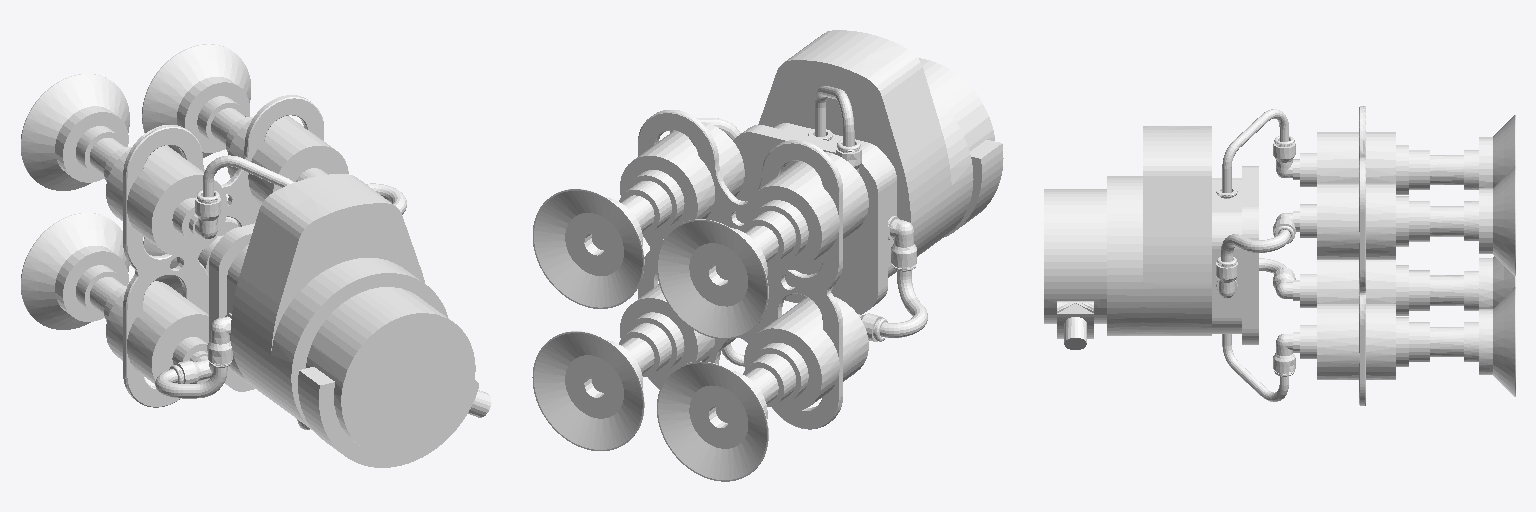
robot.urdf — ur10e:
<?xml version="1.0" ?>
<!-- =================================================================================== -->
<!-- |    This document was autogenerated by xacro from ur10e_robot.urdf.xacro         | -->
<!-- |    EDITING THIS FILE BY HAND IS NOT RECOMMENDED                                 | -->
<!-- =================================================================================== -->
<robot name="ur10e" xmlns:xacro="http://ros.org/wiki/xacro">
  <gazebo>
    <plugin filename="libgazebo_ros_control.so" name="ros_control">
      <!--robotNamespace>/</robotNamespace-->
      <!--robotSimType>gazebo_ros_control/DefaultRobotHWSim</robotSimType-->
    </plugin>
    <!--
    <plugin name="gazebo_ros_power_monitor_controller" filename="libgazebo_ros_power_monitor.so">
      <alwaysOn>true</alwaysOn>
      <updateRate>1.0</updateRate>
      <timeout>5</timeout>
      <powerStateTopic>power_state</powerStateTopic>
      <powerStateRate>10.0</powerStateRate>
      <fullChargeCapacity>87.78</fullChargeCapacity>     
      <dischargeRate>-474</dischargeRate>
      <chargeRate>525</chargeRate>
      <dischargeVoltage>15.52</dischargeVoltage>
      <chargeVoltage>16.41</chargeVoltage>
    </plugin>
-->
  </gazebo>
  <!--
  Author: [author]
  Contributers: [author], [author], [author]
-->
  <link name="base_link">
    <visual>
      <geometry>
        <mesh filename="visual/base.dae"/>
      </geometry>
      <material name="LightGrey">
        <color rgba="0.7 0.7 0.7 1.0"/>
      </material>
    </visual>
    <collision>
      <geometry>
        <mesh filename="collision/base.stl"/>
      </geometry>
    </collision>
    <inertial>
      <mass value="4.0"/>
      <origin rpy="0 0 0" xyz="0.0 0.0 0.0"/>
      <inertia ixx="0.0061063308908" ixy="0.0" ixz="0.0" iyy="0.0061063308908" iyz="0.0" izz="0.01125"/>
    </inertial>
  </link>
  <joint name="shoulder_pan_joint" type="revolute">
    <parent link="base_link"/>
    <child link="shoulder_link"/>
    <origin rpy="0.0 0.0 0.0" xyz="0.0 0.0 0.181"/>
    <axis xyz="0 0 1"/>
    <limit effort="330.0" lower="-6.28318530718" upper="6.28318530718" velocity="3.14"/>
    <dynamics damping="0.0" friction="0.0"/>
  </joint>
  <link name="shoulder_link">
    <visual>
      <geometry>
        <mesh filename="visual/shoulder.dae"/>
      </geometry>
      <material name="LightGrey">
        <color rgba="0.7 0.7 0.7 1.0"/>
      </material>
    </visual>
    <collision>
      <geometry>
        <mesh filename="collision/shoulder.stl"/>
      </geometry>
    </collision>
    <inertial>
      <mass value="7.778"/>
      <origin rpy="0 0 0" xyz="0.0 0.0 0.0"/>
      <inertia ixx="0.0314743125769" ixy="0.0" ixz="0.0" iyy="0.0314743125769" iyz="0.0" izz="0.021875625"/>
    </inertial>
  </link>
  <joint name="shoulder_lift_joint" type="revolute">
    <parent link="shoulder_link"/>
    <child link="upper_arm_link"/>
    <origin rpy="0.0 1.57079632679 0.0" xyz="0.0 0.176 0.0"/>
    <axis xyz="0 1 0"/>
    <limit effort="330.0" lower="-6.28318530718" upper="6.28318530718" velocity="3.14"/>
    <dynamics damping="0.0" friction="0.0"/>
  </joint>
  <link name="upper_arm_link">
    <visual>
      <geometry>
        <mesh filename="visual/upperarm.dae"/>
      </geometry>
      <material name="LightGrey">
        <color rgba="0.7 0.7 0.7 1.0"/>
      </material>
    </visual>
    <collision>
      <geometry>
        <mesh filename="collision/upperarm.stl"/>
      </geometry>
    </collision>
    <inertial>
      <mass value="12.93"/>
      <origin rpy="0 0 0" xyz="0.0 0.0 0.3065"/>
      <inertia ixx="0.42307374077" ixy="0.0" ixz="0.0" iyy="0.42307374077" iyz="0.0" izz="0.036365625"/>
    </inertial>
  </link>
  <joint name="elbow_joint" type="revolute">
    <parent link="upper_arm_link"/>
    <child link="forearm_link"/>
    <origin rpy="0.0 0.0 0.0" xyz="0.0 -0.137 0.613"/>
    <axis xyz="0 1 0"/>
    <limit effort="150.0" lower="-3.14159265359" upper="3.14159265359" velocity="3.14"/>
    <dynamics damping="0.0" friction="0.0"/>
  </joint>
  <link name="forearm_link">
    <visual>
      <geometry>
        <mesh filename="visual/forearm.dae"/>
      </geometry>
      <material name="LightGrey">
        <color rgba="0.7 0.7 0.7 1.0"/>
      </material>
    </visual>
    <collision>
      <geometry>
        <mesh filename="collision/forearm.stl"/>
      </geometry>
    </collision>
    <inertial>
      <mass value="3.87"/>
      <origin rpy="0 0 0" xyz="0.0 0.0 0.2855"/>
      <inertia ixx="0.110590365764" ixy="0.0" ixz="0.0" iyy="0.110590365764" iyz="0.0" izz="0.010884375"/>
    </inertial>
  </link>
  <joint name="wrist_1_joint" type="revolute">
    <parent link="forearm_link"/>
    <child link="wrist_1_link"/>
    <origin rpy="0.0 1.57079632679 0.0" xyz="0.0 0.0 0.571"/>
    <axis xyz="0 1 0"/>
    <limit effort="54.0" lower="-6.28318530718" upper="6.28318530718" velocity="6.28"/>
    <dynamics damping="0.0" friction="0.0"/>
  </joint>
  <link name="wrist_1_link">
    <visual>
      <geometry>
        <mesh filename="visual/wrist1.dae"/>
      </geometry>
      <material name="LightGrey">
        <color rgba="0.7 0.7 0.7 1.0"/>
      </material>
    </visual>
    <collision>
      <geometry>
        <mesh filename="collision/wrist1.stl"/>
      </geometry>
    </collision>
    <inertial>
      <mass value="1.96"/>
      <origin rpy="0 0 0" xyz="0.0 0.135 0.0"/>
      <inertia ixx="0.0051082479567" ixy="0.0" ixz="0.0" iyy="0.0051082479567" iyz="0.0" izz="0.0055125"/>
    </inertial>
  </link>
  <joint name="wrist_2_joint" type="revolute">
    <parent link="wrist_1_link"/>
    <child link="wrist_2_link"/>
    <origin rpy="0.0 0.0 0.0" xyz="0.0 0.135 0.0"/>
    <axis xyz="0 0 1"/>
    <limit effort="54.0" lower="-6.28318530718" upper="6.28318530718" velocity="6.28"/>
    <dynamics damping="0.0" friction="0.0"/>
  </joint>
  <link name="wrist_2_link">
    <visual>
      <geometry>
        <mesh filename="visual/wrist2.dae"/>
      </geometry>
      <material name="LightGrey">
        <color rgba="0.7 0.7 0.7 1.0"/>
      </material>
    </visual>
    <collision>
      <geometry>
        <mesh filename="collision/wrist2.stl"/>
      </geometry>
    </collision>
    <inertial>
      <mass value="1.96"/>
      <origin rpy="0 0 0" xyz="0.0 0.0 0.12"/>
      <inertia ixx="0.0051082479567" ixy="0.0" ixz="0.0" iyy="0.0051082479567" iyz="0.0" izz="0.0055125"/>
    </inertial>
  </link>
  <joint name="wrist_3_joint" type="revolute">
    <parent link="wrist_2_link"/>
    <child link="wrist_3_link"/>
    <origin rpy="0.0 0.0 0.0" xyz="0.0 0.0 0.12"/>
    <axis xyz="0 1 0"/>
    <limit effort="54.0" lower="-6.28318530718" upper="6.28318530718" velocity="6.28"/>
    <dynamics damping="0.0" friction="0.0"/>
  </joint>
  <link name="wrist_3_link">
    <visual>
      <geometry>
        <mesh filename="visual/wrist3.dae"/>
      </geometry>
      <material name="LightGrey">
        <color rgba="0.7 0.7 0.7 1.0"/>
      </material>
    </visual>
    <collision>
      <geometry>
        <mesh filename="collision/wrist3.stl"/>
      </geometry>
    </collision>
    <inertial>
      <mass value="0.202"/>
      <origin rpy="1.57079632679 0 0" xyz="0.0 0.092 0.0"/>
      <inertia ixx="0.000144345775595" ixy="0.0" ixz="0.0" iyy="0.000144345775595" iyz="0.0" izz="0.000204525"/>
    </inertial>
  </link>
  <joint name="ee_fixed_joint" type="fixed">
    <parent link="wrist_3_link"/>
    <child link="ee_link"/>
    <origin rpy="0.0 0.0 1.57079632679" xyz="0.0 0.117 0.0"/>
  </joint>
  <link name="ee_link">
    <collision>
      <geometry>
        <box size="0.01 0.01 0.01"/>
      </geometry>
      <origin rpy="0 0 0" xyz="-0.01 0 0"/>
    </collision>
  </link>
  <transmission name="shoulder_pan_trans">
    <type>transmission_interface/SimpleTransmission</type>
    <joint name="shoulder_pan_joint">
      <hardwareInterface>hardware_interface/PositionJointInterface</hardwareInterface>
    </joint>
    <actuator name="shoulder_pan_motor">
      <mechanicalReduction>1</mechanicalReduction>
    </actuator>
  </transmission>
  <transmission name="shoulder_lift_trans">
    <type>transmission_interface/SimpleTransmission</type>
    <joint name="shoulder_lift_joint">
      <hardwareInterface>hardware_interface/PositionJointInterface</hardwareInterface>
    </joint>
    <actuator name="shoulder_lift_motor">
      <mechanicalReduction>1</mechanicalReduction>
    </actuator>
  </transmission>
  <transmission name="elbow_trans">
    <type>transmission_interface/SimpleTransmission</type>
    <joint name="elbow_joint">
      <hardwareInterface>hardware_interface/PositionJointInterface</hardwareInterface>
    </joint>
    <actuator name="elbow_motor">
      <mechanicalReduction>1</mechanicalReduction>
    </actuator>
  </transmission>
  <transmission name="wrist_1_trans">
    <type>transmission_interface/SimpleTransmission</type>
    <joint name="wrist_1_joint">
      <hardwareInterface>hardware_interface/PositionJointInterface</hardwareInterface>
    </joint>
    <actuator name="wrist_1_motor">
      <mechanicalReduction>1</mechanicalReduction>
    </actuator>
  </transmission>
  <transmission name="wrist_2_trans">
    <type>transmission_interface/SimpleTransmission</type>
    <joint name="wrist_2_joint">
      <hardwareInterface>hardware_interface/PositionJointInterface</hardwareInterface>
    </joint>
    <actuator name="wrist_2_motor">
      <mechanicalReduction>1</mechanicalReduction>
    </actuator>
  </transmission>
  <transmission name="wrist_3_trans">
    <type>transmission_interface/SimpleTransmission</type>
    <joint name="wrist_3_joint">
      <hardwareInterface>hardware_interface/PositionJointInterface</hardwareInterface>
    </joint>
    <actuator name="wrist_3_motor">
      <mechanicalReduction>1</mechanicalReduction>
    </actuator>
  </transmission>
  <gazebo reference="shoulder_link">
    <selfCollide>true</selfCollide>
  </gazebo>
  <gazebo reference="upper_arm_link">
    <selfCollide>true</selfCollide>
  </gazebo>
  <gazebo reference="forearm_link">
    <selfCollide>true</selfCollide>
  </gazebo>
  <gazebo reference="wrist_1_link">
    <selfCollide>true</selfCollide>
  </gazebo>
  <gazebo reference="wrist_3_link">
    <selfCollide>true</selfCollide>
  </gazebo>
  <gazebo reference="wrist_2_link">
    <selfCollide>true</selfCollide>
  </gazebo>
  <gazebo reference="ee_link">
    <selfCollide>true</selfCollide>
  </gazebo>
  <!-- ROS base_link to UR 'Base' Coordinates transform -->
  <link name="base"/>
  <joint name="base_link-base_fixed_joint" type="fixed">
    <!-- NOTE: this rotation is only needed as long as base_link itself is
                 not corrected wrt the real robot (ie: rotated over 180
                 degrees)
      -->
    <origin rpy="0 0 -3.14159265359" xyz="0 0 0"/>
    <parent link="base_link"/>
    <child link="base"/>
  </joint>
  <!-- Frame coincident with all-zeros TCP on UR controller -->
  <link name="tool0"/>
  <joint name="wrist_3_link-tool0_fixed_joint" type="fixed">
    <origin rpy="-1.57079632679 0 0" xyz="0 0.117 0"/>
    <parent link="wrist_3_link"/>
    <child link="tool0"/>
  </joint>

  <joint name="vacuumgripper_joint" type="fixed">
    <parent link="tool0"/>
    <child link="vacuumgripper"/>
    <origin rpy="0 0 0" xyz="0 0 0"/>
  </joint>
  <link name="vacuumgripper">
    <visual>
      <geometry>
        <mesh filename="vacuumgripper.dae"/>
      </geometry>
    </visual>
    <collision>
      <geometry>
        <mesh filename="vacuumgripper.dae"/>
      </geometry>
    </collision>
  </link>
  <!-- TCP frame -->
  <joint name="tcp_joint" type="fixed">
    <origin rpy="0 0 0" xyz="0 0 0.22"/>
    <parent link="vacuumgripper"/>
    <child link="tcp"/>
  </joint>
  <link name="tcp"/>
  <!-- define the ur10e's position and orientation in the world coordinate system -->

  <link name="world"/>
  <joint name="world_joint" type="fixed">
    <parent link="world"/>
    <child link="base_link"/>
    <origin rpy="0.0 0.0 0.0" xyz="0.0 0.0 0.0"/>
  </joint>
</robot>

--- What the picture shows (computed from the rendered views, not written in the file) ---
Views: 3 orthographic renders of the robot side by side, from view 1: azimuth 30°, elevation 25°; view 2: azimuth 150°, elevation 25°; view 3: azimuth 270°, elevation 25°.
Model ur10e with 13 links and 12 joints (6 revolute, 6 fixed), rooted at world, posed all joints at 0.
Visible links, largest first — view 1: vacuumgripper; view 2: vacuumgripper; view 3: vacuumgripper.
Link boxes in pixels (x1,y1,x2,y2): vacuumgripper: (21, 44, 491, 467); vacuumgripper: (532, 30, 1003, 481); vacuumgripper: (1044, 106, 1515, 405).
Bounding box of the posed robot: 0.1142 × 0.2203 × 0.1299 m (x, y, z).
1 mesh visuals loaded from 8 distinct referenced files (1 Collada DAE); not drawn: 7 (reference not matched to a file when rendering).